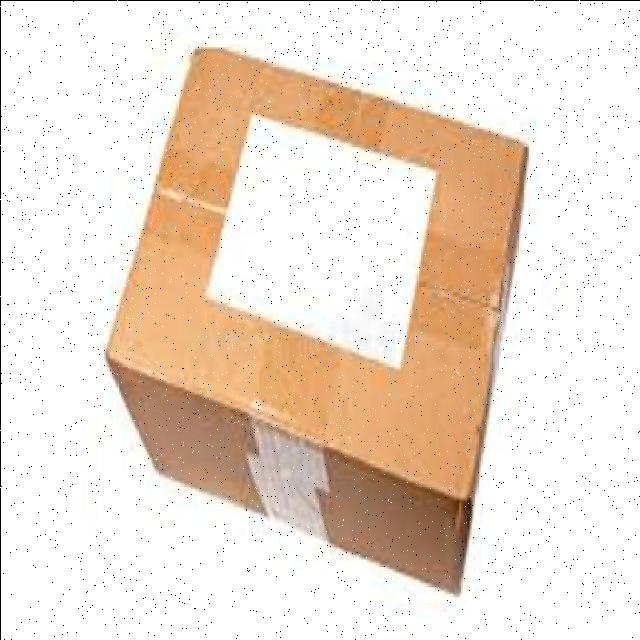normal: (97, 43, 540, 602)
